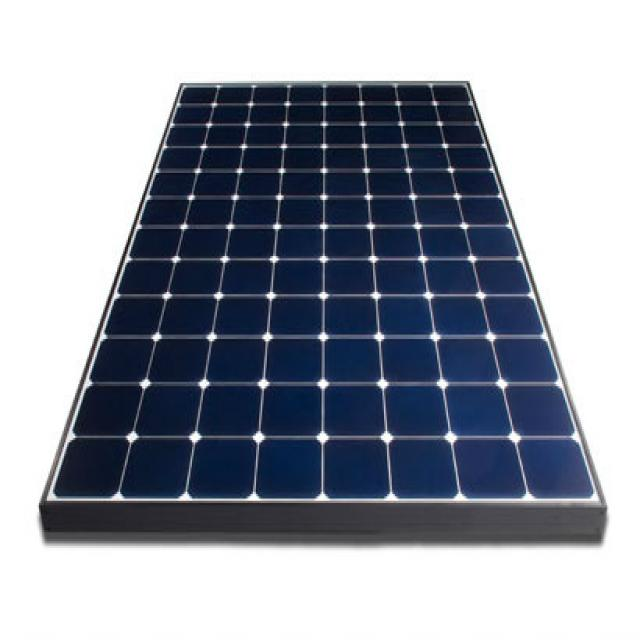no faulty: (105, 84, 541, 538)
